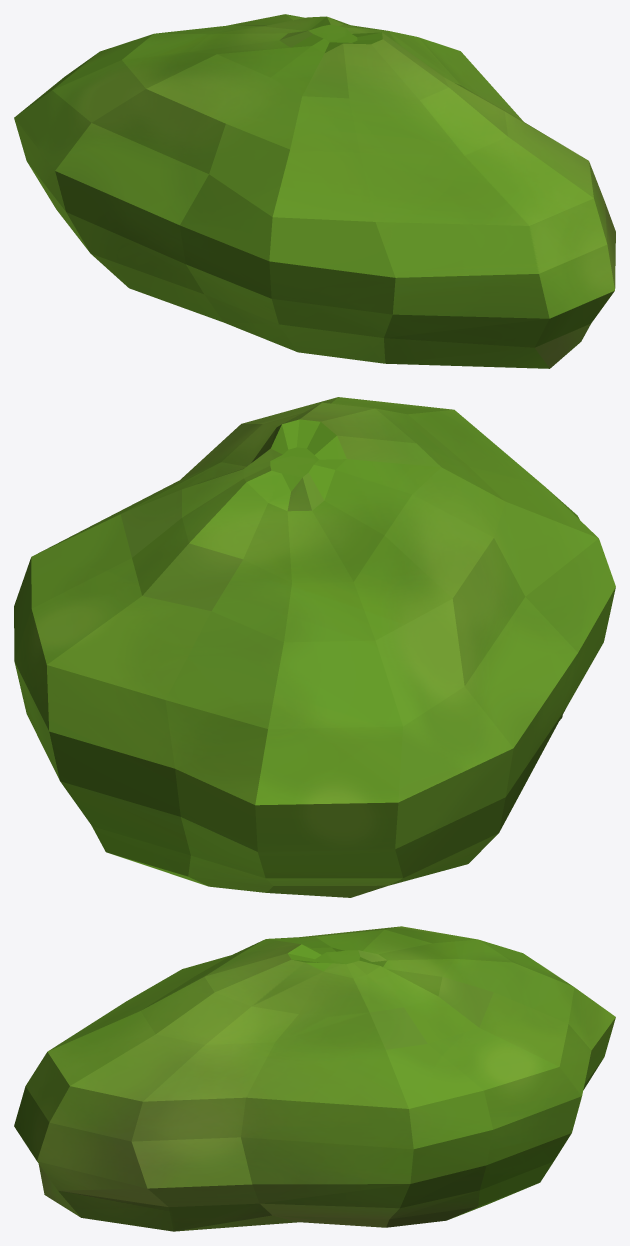
The model's file is bush3.obj.
3 renders of one model, top to bottom at view 1: azimuth 30°, elevation 25°; view 2: azimuth 150°, elevation 25°; view 3: azimuth 270°, elevation 25°, orthographic. The views are drawn at different scales.
Parts seen in each view (by area): view 1: Cylinder.004_Cylinder.001; view 2: Cylinder.004_Cylinder.001; view 3: Cylinder.004_Cylinder.001.
Boxes of the visible parts, <box> form: Cylinder.004_Cylinder.001: <box>14,14,615,368</box>; Cylinder.004_Cylinder.001: <box>14,397,615,897</box>; Cylinder.004_Cylinder.001: <box>14,926,615,1231</box>.
Bounding box in the file's own units: 1.18 × 0.7392 × 1.67.
1 material, 1 textured.
